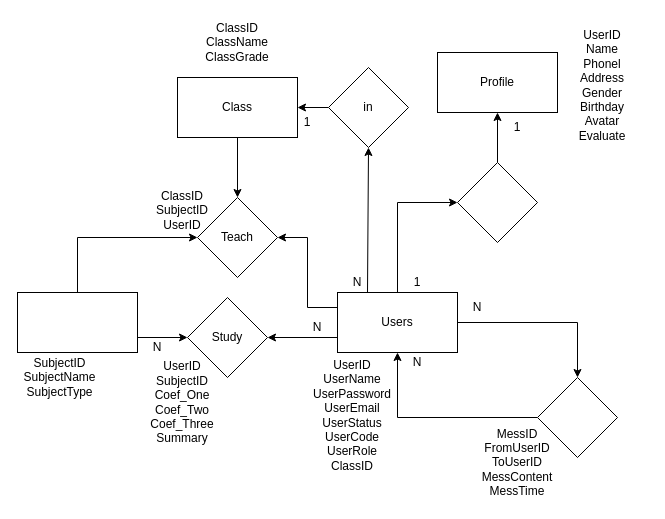
The diagram is 665 pixels wide and 519 high, and some of its shapes have lost their labels. The shapes that lost their labels are listed below. From the top down, each one's centre as x and y in pixels, then its label:
At (x=497, y=202): "own".
At (x=77, y=322): "Subject".
At (x=577, y=417): "Message".
